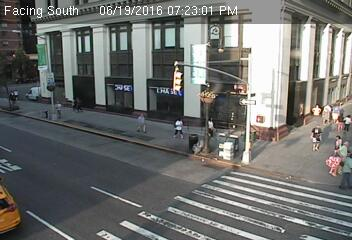neg: (208, 191, 223, 212), (259, 54, 273, 73), (255, 105, 269, 124)
pos: (332, 148, 351, 192), (306, 123, 327, 151), (169, 113, 189, 140), (327, 151, 345, 176), (131, 112, 149, 135), (202, 116, 220, 139), (331, 129, 347, 151), (308, 98, 322, 117), (320, 100, 334, 118), (339, 136, 351, 155), (335, 112, 348, 129), (69, 94, 82, 110), (343, 110, 351, 129), (332, 102, 341, 115), (14, 88, 21, 97), (8, 90, 15, 99)
